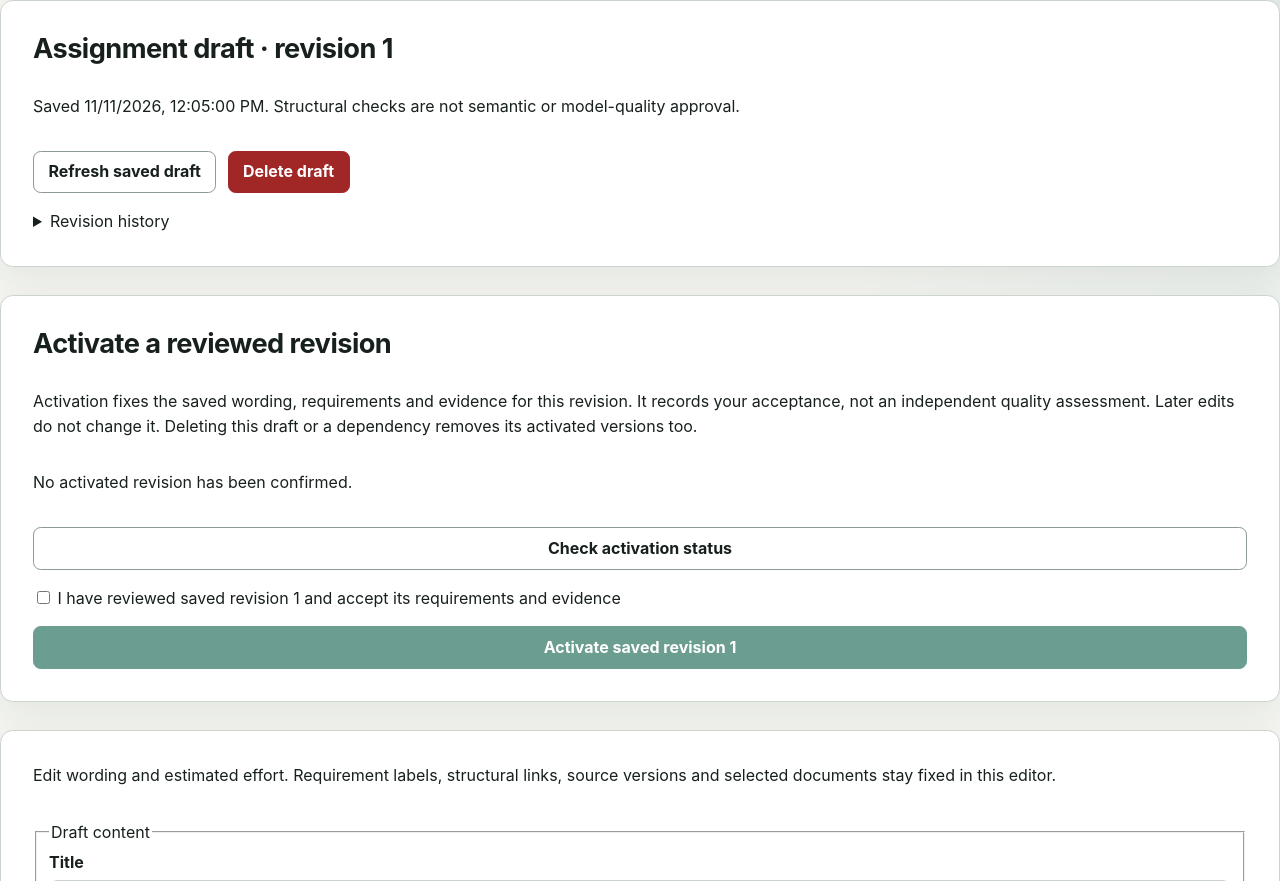
Test: explicit reviewed assignment activation › clears a just-accepted receipt if a dependency removed the current draft
Click the checkbox labelled "I have reviewed saved revision" at (44, 597), box [37,590,50,604]
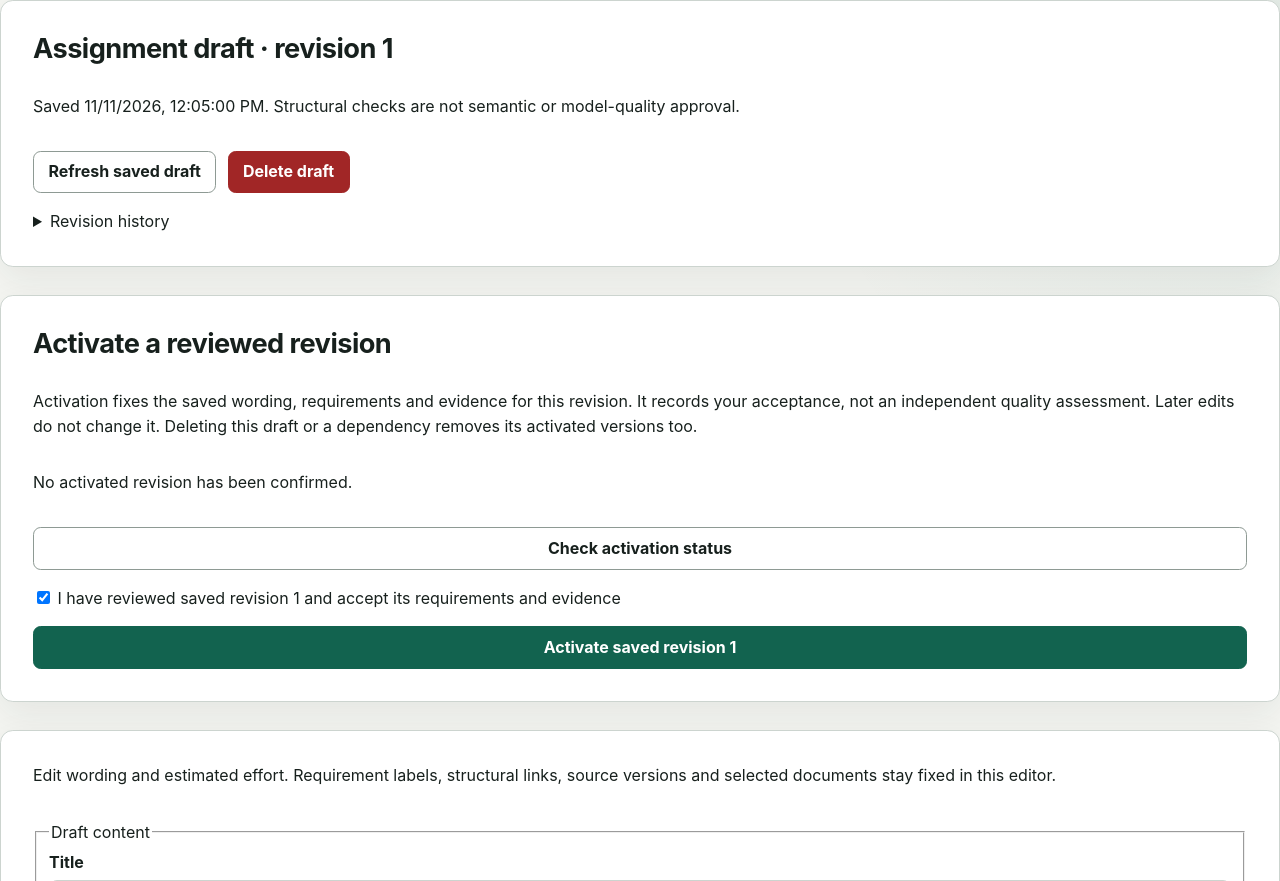
Click the button "Activate saved revision 1" at (640, 648), box [33,626,1247,669]
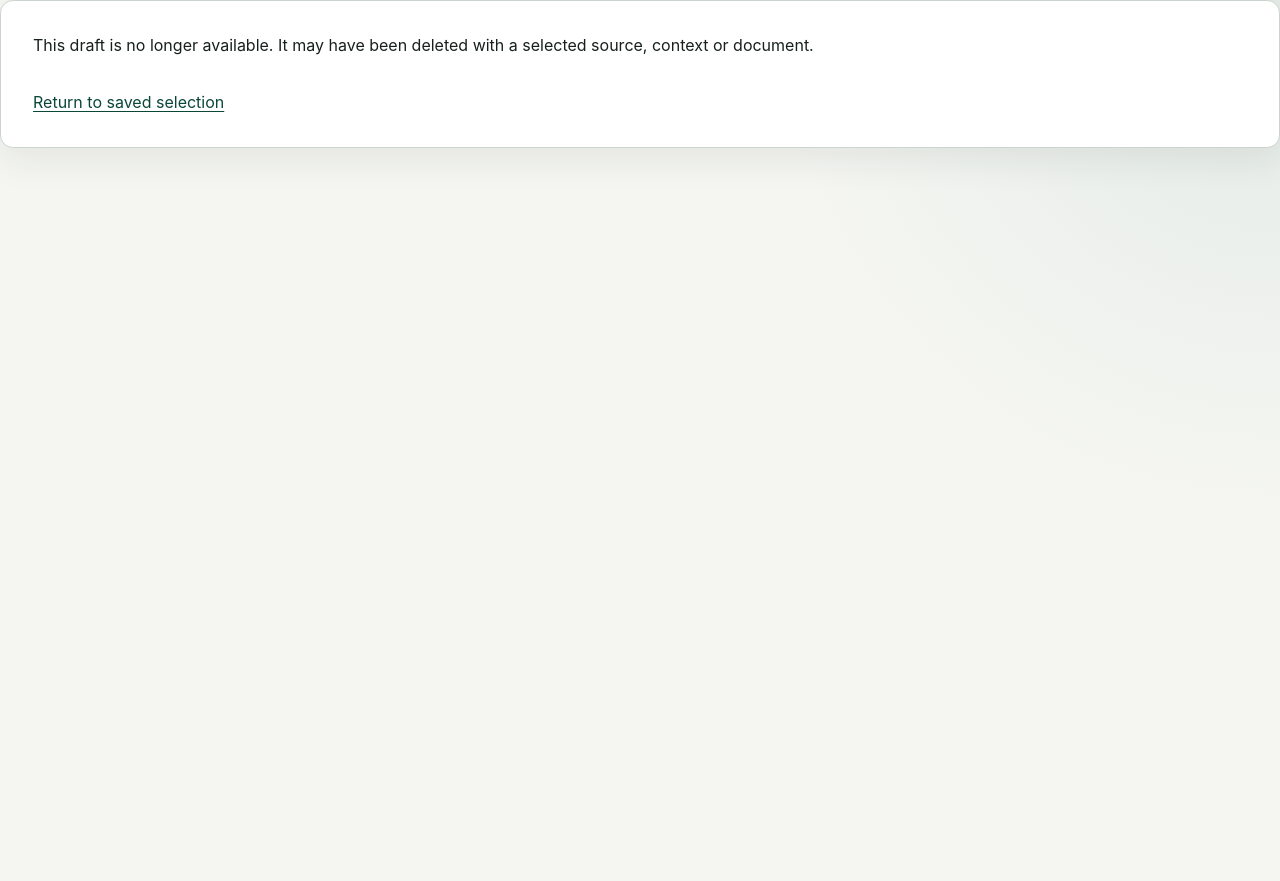
expect the text "This draft is no longer available" is shown: met, box [33,35,814,55]
expect the label labelled "Title" is gone: met
